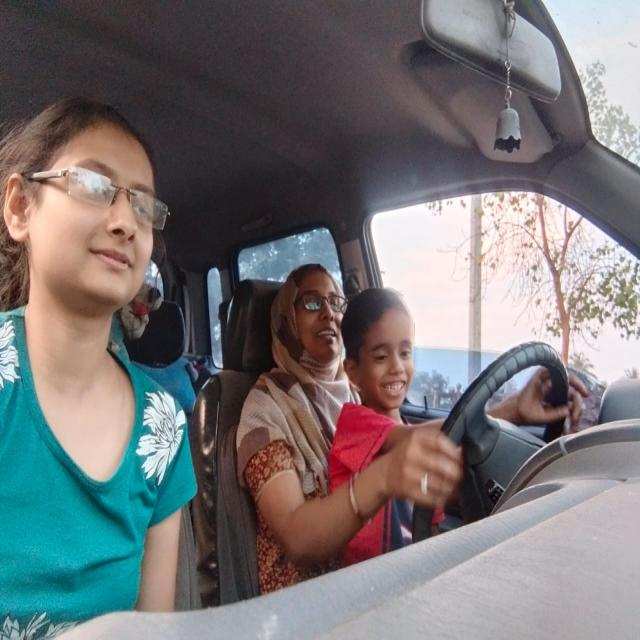child: (341, 280, 425, 422)
person: (1, 97, 170, 318), (272, 257, 346, 385)
